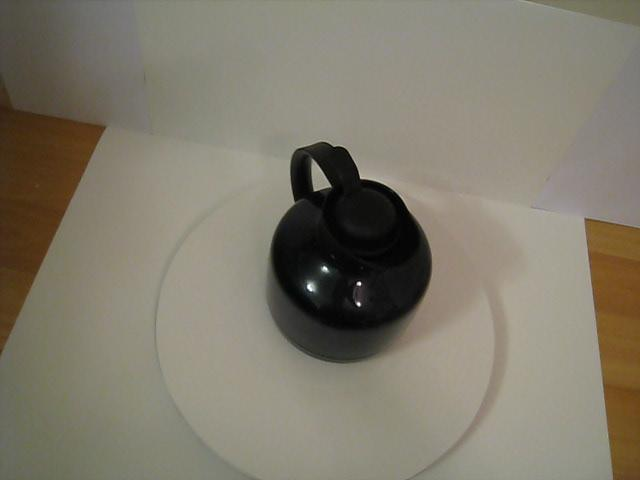pitcher: (237, 132, 440, 387)
